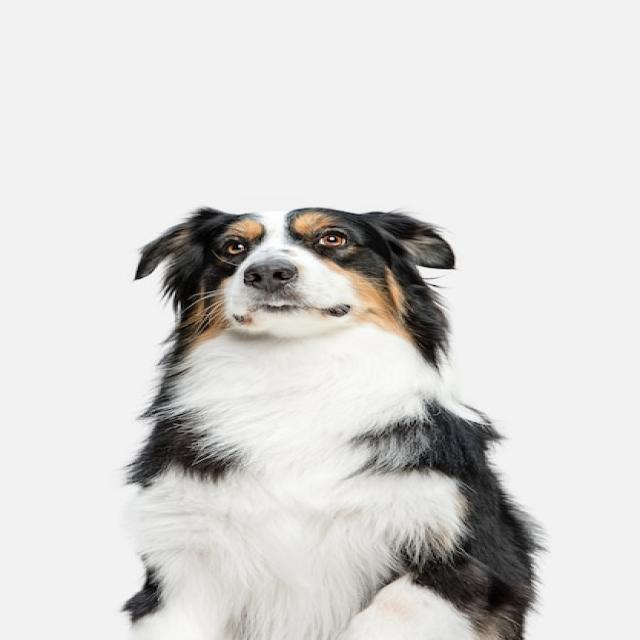Dog: (123, 205, 542, 640)
